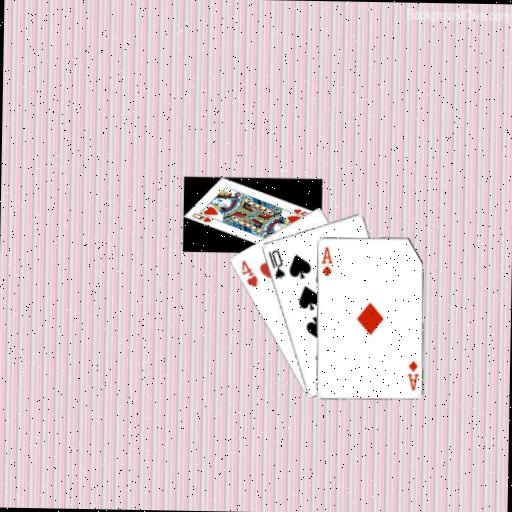10S: (264, 247, 287, 281)
4H: (238, 257, 260, 289)
AD: (318, 244, 334, 278), (404, 358, 420, 392)
